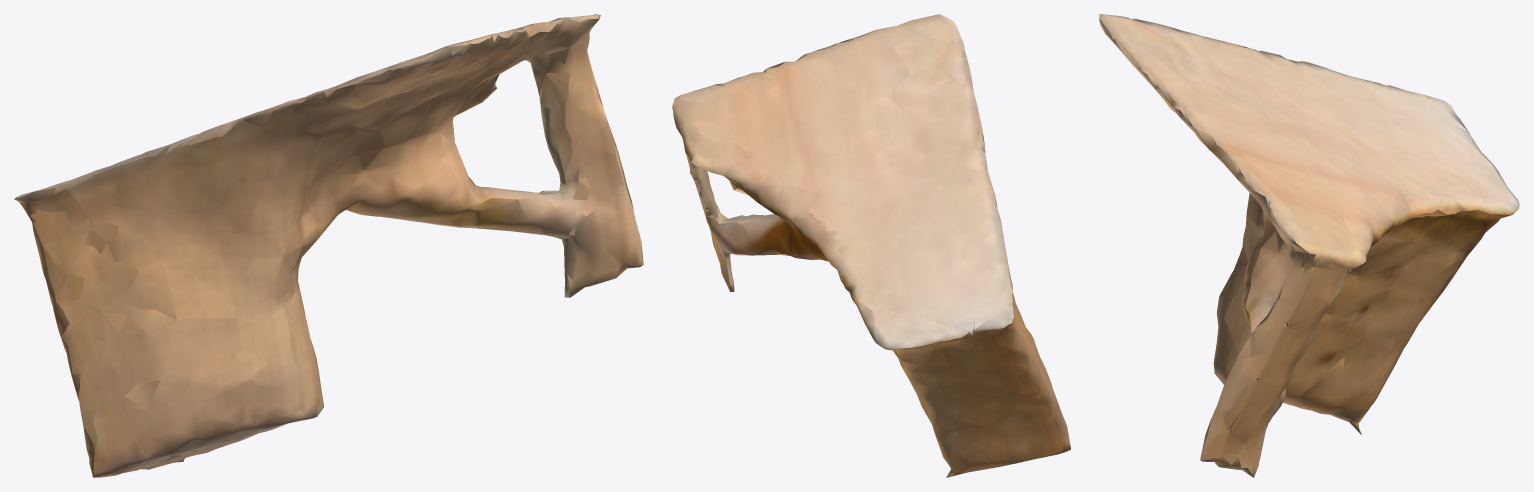
3 renders of one model, left to right at view 1: azimuth 30°, elevation 25°; view 2: azimuth 150°, elevation 25°; view 3: azimuth 270°, elevation 25°, orthographic. The views are drawn at different scales.
Visible parts, largest first — view 1: world; view 2: world; view 3: world.
Part boxes in pixels (x1,y1,x2,y2): world: (14,14,643,477); world: (672,14,1070,477); world: (1099,14,1519,477).
Bounding box in the file's own units: 0.4676 × 0.4146 × 0.325.
1 material, 1 textured.
